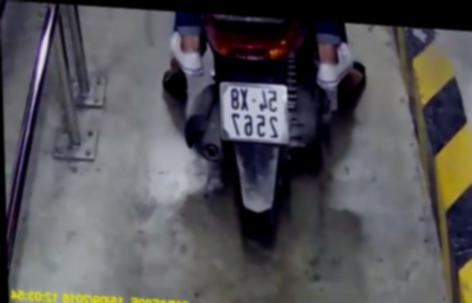License_Plate: (211, 76, 301, 153)
